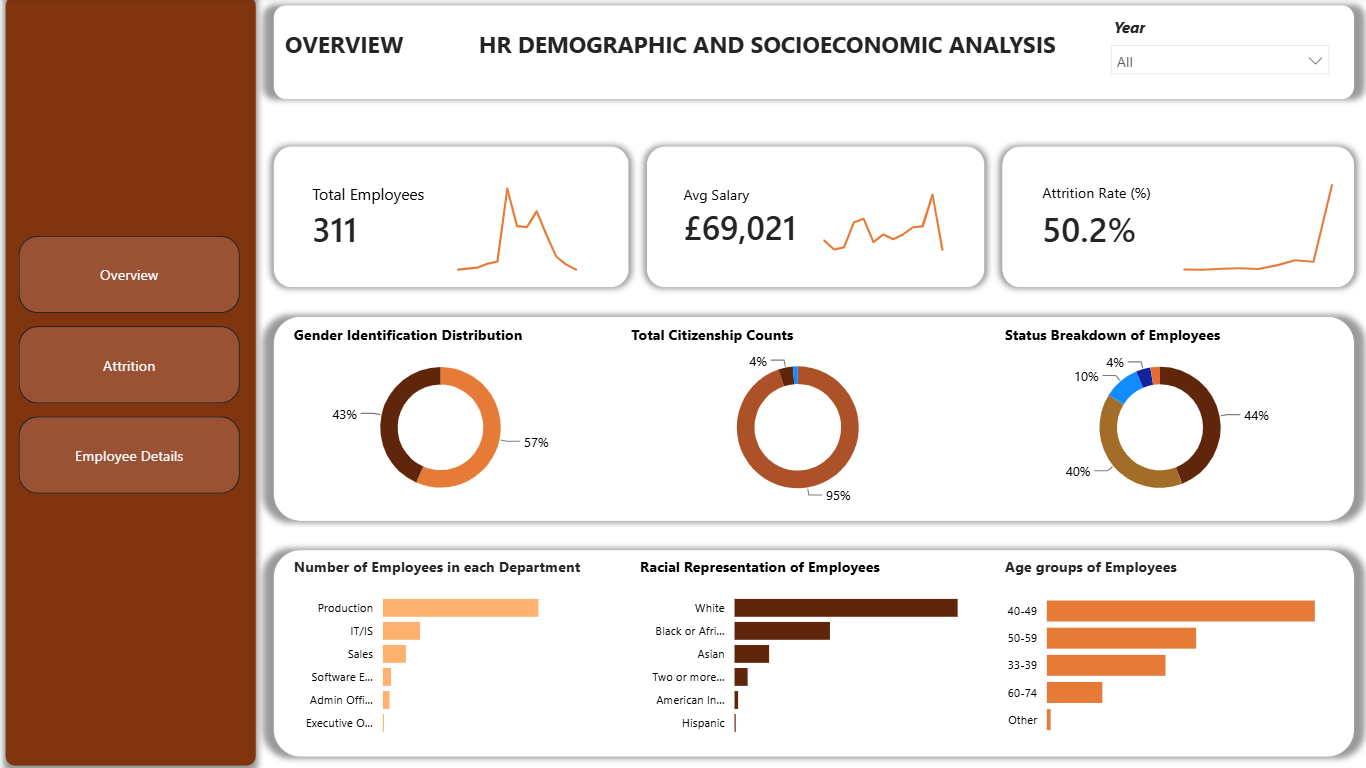

What the dashboard file says about the page in this screenshot:
{"tool":"powerbi","page":{"name":"Overview","canvas":[1280,720],"ordinal":0},"visuals":[{"type":"cardVisual","fields":{"Data":["Measures (2).Total Employees"]},"box":[264.6,148.8,167.3,111.9],"z":0},{"type":"cardVisual","fields":{"Data":["Measures (2).Avg Salary"]},"box":[610.8,148.8,172.2,111.9],"z":1000},{"type":"cardVisual","fields":{"Data":["Measures (2).Attrition Rate (%)"]},"box":[944.4,148.8,165.3,111.9],"z":2000},{"type":"slicer","fields":{"Values":["Date Table.Year"]},"box":[1026.7,12.2,223.3,74.4],"z":3000},{"type":"lineChart","fields":{"Category":["Date Table.Year"],"Y":["Measures (2).Total Employees"]},"box":[405.6,148.8,167.3,111.9],"z":4000},{"type":"lineChart","fields":{"Category":["Date Table.Year"],"Y":["Measures (2).Avg Salary"]},"box":[747,148.8,167.3,111.9],"z":5000},{"type":"lineChart","fields":{"Category":["Date Table.Year"]},"box":[1090.3,148.8,167.3,111.9],"z":6000},{"type":"lineChart","fields":{"Y":["Measures (2).Attrition Rate (%)"],"Category":["Date Table.Year"]},"box":[1090.3,148.8,167.3,111.9],"z":7000},{"type":"donutChart","title":"Gender Identification Distribution","fields":{"Category":["HRDataset_v14.Sex"],"Y":["Measures (2).Total Employees"]},"box":[272.3,304.4,283,174.1],"z":8000},{"type":"donutChart","title":"Total Citizenship Counts","fields":{"Y":["Measures (2).Total Employees"],"Category":["HRDataset_v14.CitizenDesc"]},"box":[586.5,304.4,320,174.1],"z":9000},{"type":"donutChart","title":"Status Breakdown of Employees","fields":{"Category":["HRDataset_v14.MaritalDesc"],"Y":["Measures (2).Total Employees"]},"box":[933.7,304.4,298.6,174.1],"z":10000},{"type":"barChart","title":"Number of Employees in each Department","fields":{"Y":["Measures (2).Total Employees"],"Category":["HRDataset_v14.Department"]},"box":[272.3,521.3,300.5,177],"z":11000},{"type":"barChart","title":"Racial Representation of Employees","fields":{"Y":["Measures (2).Total Employees"],"Category":["HRDataset_v14.RaceDesc"]},"box":[594.3,521.3,320,177],"z":12000},{"type":"barChart","title":"Age groups of Employees","fields":{"Y":["Measures (2).Total Employees"],"Category":["HRDataset_v14.Employee Age Band"]},"box":[933.7,521.3,316.1,177],"z":13000},{"type":"textbox","box":[264.4,24.4,167.8,51.1],"z":14000},{"type":"textbox","box":[444.4,24.4,567.8,51.1],"z":15000},{"type":"pageNavigator","box":[21.1,222.2,206.7,242.2],"z":16000}]}

Visuals, with their boxes in screenshot pixels (x1, y1, x2, y2), scaled from the page's 1280x720 canvas onto the 1366x768 screenshot:
cardVisual - Measures (2).Total Employees: [x1=282, y1=159, x2=461, y2=278]
cardVisual - Measures (2).Avg Salary: [x1=652, y1=159, x2=836, y2=278]
cardVisual - Measures (2).Attrition Rate (%): [x1=1008, y1=159, x2=1184, y2=278]
slicer - Date Table.Year: [x1=1096, y1=13, x2=1334, y2=92]
lineChart - Date Table.Year x Measures (2).Total Employees: [x1=433, y1=159, x2=611, y2=278]
lineChart - Date Table.Year x Measures (2).Avg Salary: [x1=797, y1=159, x2=976, y2=278]
lineChart - Date Table.Year: [x1=1164, y1=159, x2=1342, y2=278]
lineChart - Measures (2).Attrition Rate (%) x Date Table.Year: [x1=1164, y1=159, x2=1342, y2=278]
"Gender Identification Distribution" donutChart: [x1=291, y1=325, x2=593, y2=510]
"Total Citizenship Counts" donutChart: [x1=626, y1=325, x2=967, y2=510]
"Status Breakdown of Employees" donutChart: [x1=996, y1=325, x2=1315, y2=510]
"Number of Employees in each Department" barChart: [x1=291, y1=556, x2=611, y2=745]
"Racial Representation of Employees" barChart: [x1=634, y1=556, x2=976, y2=745]
"Age groups of Employees" barChart: [x1=996, y1=556, x2=1334, y2=745]
textbox: [x1=282, y1=26, x2=461, y2=81]
textbox: [x1=474, y1=26, x2=1080, y2=81]
pageNavigator: [x1=23, y1=237, x2=243, y2=495]
